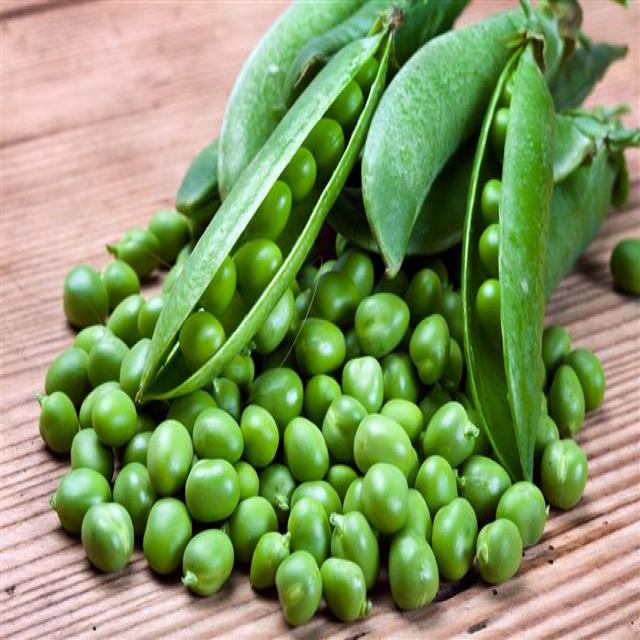Peas: (281, 308, 479, 622), (53, 389, 281, 593)
